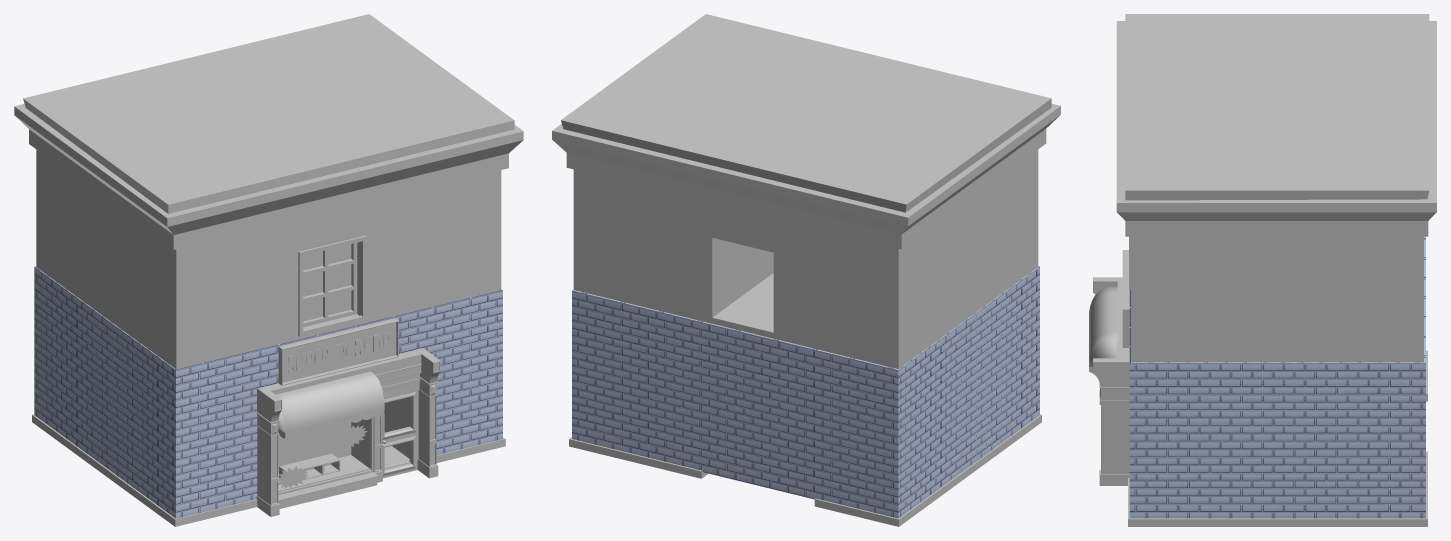
The model's file is CutsceneNewTV.fbx.
The picture shows the model from 3 angles, left to right: view 1: azimuth 30°, elevation 25°; view 2: azimuth 150°, elevation 25°; view 3: azimuth 270°, elevation 25°; orthographic projection. The views are drawn at different scales.
Visible parts, largest first — view 1: BuildingTop1, Wall1, WallT, StoreMain, Awning1, DisplayBox, SignLight, Windowglass1, Floor1, WindowF1, Window1, ShopsignBack1 (+4 smaller); view 2: BuildingTop1, WallT, Wall1, Floor1, Floor2; view 3: BuildingTop1, WallT, Wall1, StoreMain, Floor2, Awning1, ShopsignBack1.
Part boxes in pixels (x1=…): BuildingTop1: x1=14, y1=14, x2=523, y2=249; Wall1: x1=36, y1=149, x2=501, y2=458; WallT: x1=34, y1=266, x2=502, y2=518; StoreMain: x1=256, y1=348, x2=440, y2=516; Awning1: x1=276, y1=371, x2=384, y2=433; DisplayBox: x1=278, y1=416, x2=373, y2=495; SignLight: x1=282, y1=322, x2=396, y2=382; Windowglass1: x1=303, y1=244, x2=351, y2=321; Floor1: x1=32, y1=414, x2=257, y2=526; WindowF1: x1=298, y1=235, x2=366, y2=336; Window1: x1=303, y1=242, x2=357, y2=326; ShopsignBack1: x1=278, y1=318, x2=398, y2=385; BuildingTop1: x1=552, y1=14, x2=1060, y2=249; WallT: x1=572, y1=266, x2=1039, y2=518; Wall1: x1=573, y1=149, x2=1038, y2=368; Floor1: x1=814, y1=414, x2=1041, y2=526; Floor2: x1=569, y1=437, x2=708, y2=478; BuildingTop1: x1=1116, y1=14, x2=1436, y2=236; WallT: x1=1129, y1=236, x2=1425, y2=518; Wall1: x1=1131, y1=236, x2=1423, y2=362; StoreMain: x1=1093, y1=277, x2=1129, y2=485; Floor2: x1=1128, y1=451, x2=1427, y2=526; Awning1: x1=1089, y1=287, x2=1117, y2=366; ShopsignBack1: x1=1122, y1=250, x2=1129, y2=347.
Bounding box in the file's own units: 2035 × 1775 × 1643.
